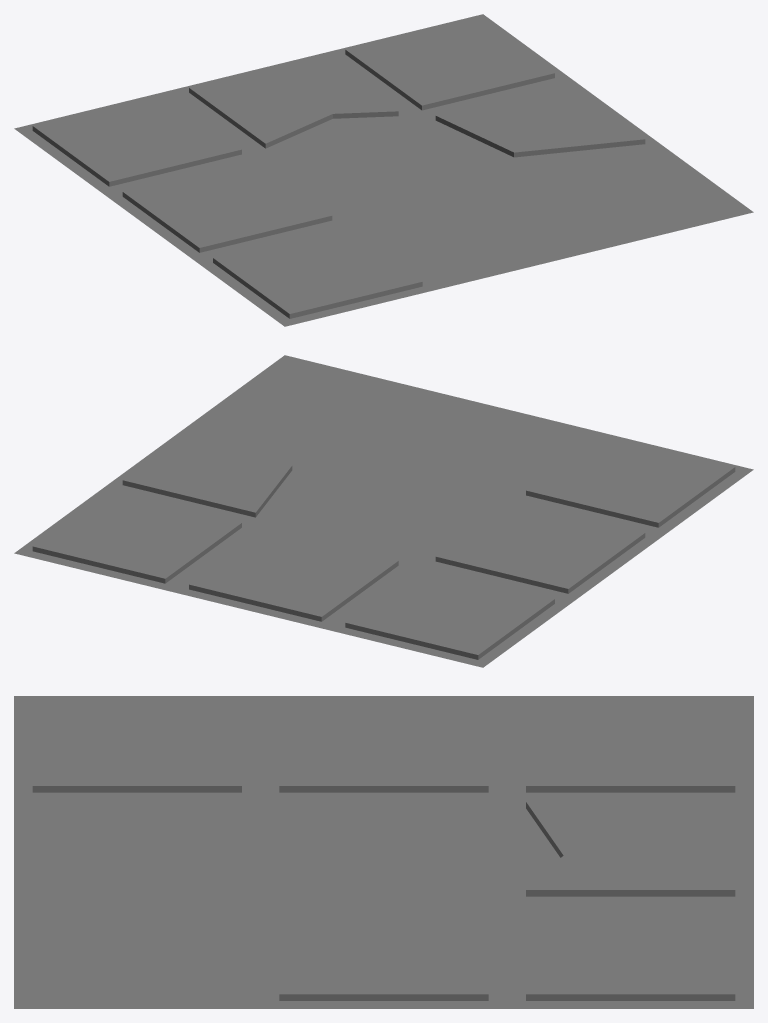
File: stone_floor2.fbx
3 renders of one model, top to bottom at view 1: azimuth 30°, elevation 25°; view 2: azimuth 150°, elevation 25°; view 3: azimuth 270°, elevation 25°, orthographic. The views are drawn at different scales.
Visible parts, largest first — view 1: stone_floor2; view 2: stone_floor2; view 3: stone_floor2.
Part boxes in pixels (<box>): stone_floor2: <box>14,14,753,326</box>; stone_floor2: <box>14,355,753,667</box>; stone_floor2: <box>14,696,753,1008</box>.
Bounding box in the file's own units: 200 × 2 × 200.
